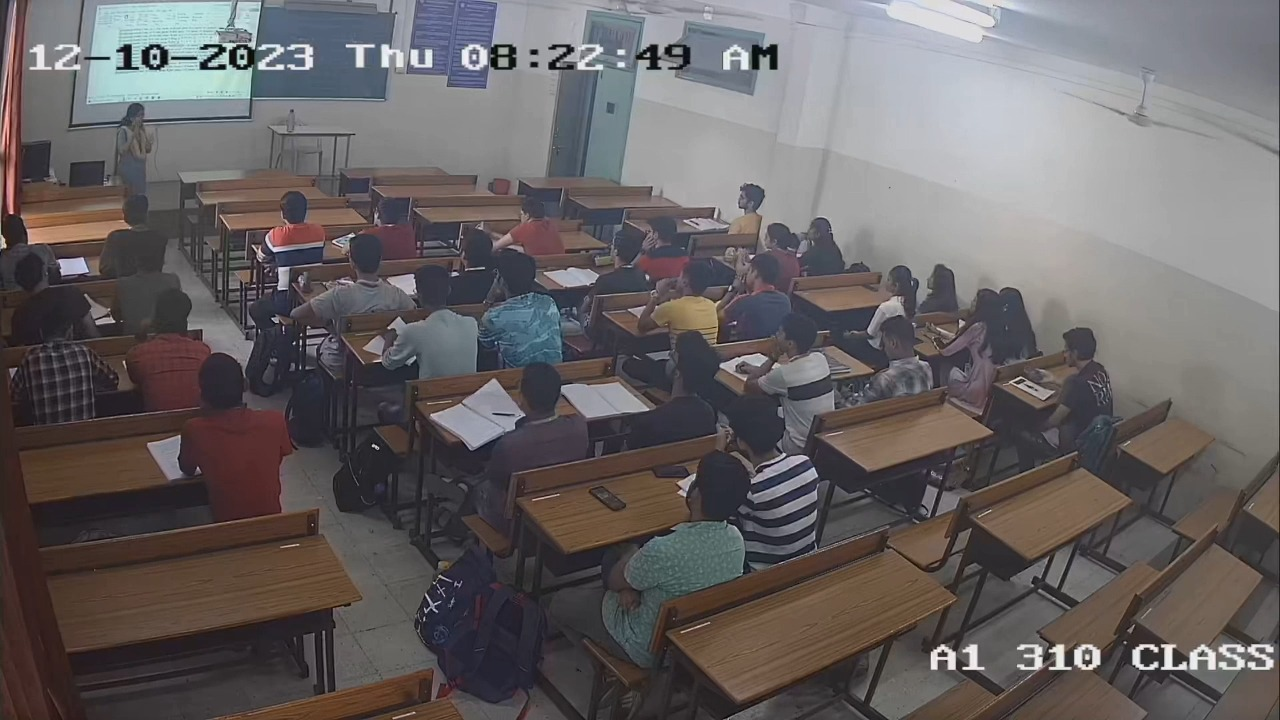cell-phones: (587, 483, 629, 515), (650, 462, 691, 480), (591, 250, 617, 269), (861, 283, 880, 293)
person: (613, 452, 750, 590), (726, 395, 827, 514), (589, 229, 651, 292), (871, 265, 919, 317)
